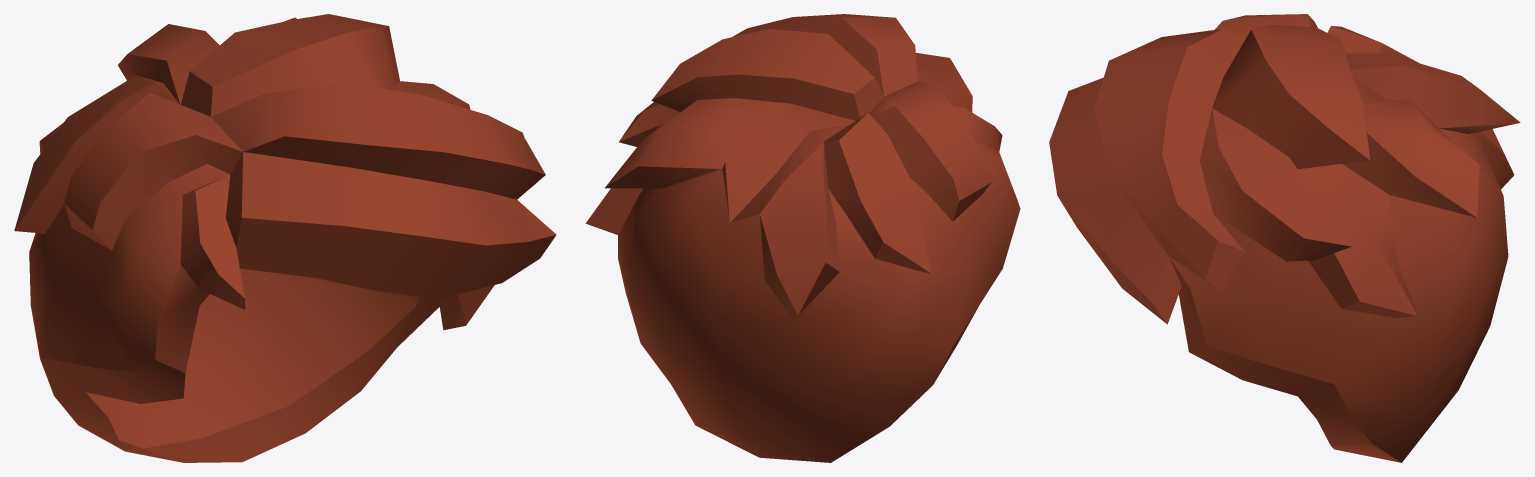
Rendered from Male_Hairs_01_v4.fbx.
The picture shows the model from 3 angles, left to right: view 1: azimuth 30°, elevation 25°; view 2: azimuth 150°, elevation 25°; view 3: azimuth 270°, elevation 25°; orthographic projection. The views are drawn at different scales.
Visible parts, largest first — view 1: Male_Hairs_01_v4; view 2: Male_Hairs_01_v4; view 3: Male_Hairs_01_v4.
Boxes of the visible parts, x1,y1,x2,y2 form: Male_Hairs_01_v4: [14, 14, 556, 462]; Male_Hairs_01_v4: [585, 14, 1020, 462]; Male_Hairs_01_v4: [1049, 14, 1520, 462].
Size of the model in its own units: 65.25 by 64.78 by 67.13.
